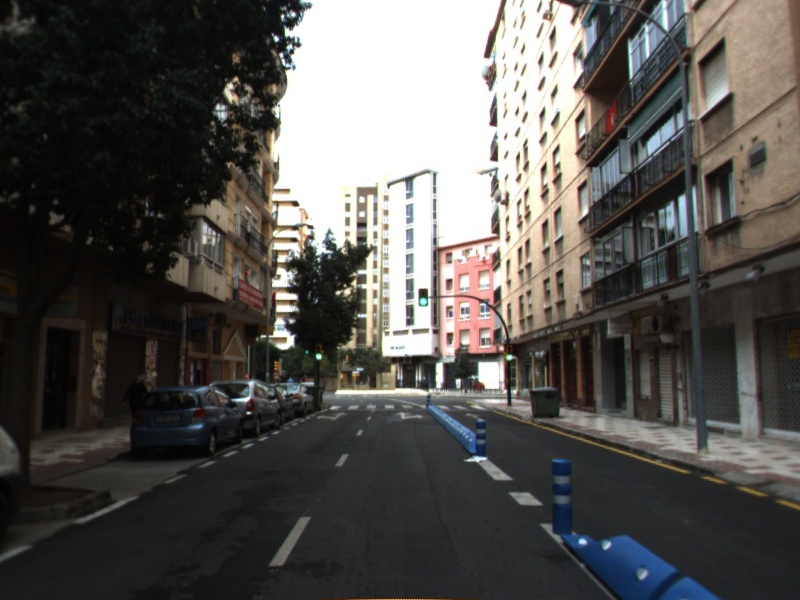STRAIGHT: (463, 411, 485, 422)
STRAIGHT_LEFT: (315, 410, 350, 422)
STRAIGHT_RIGHT: (393, 410, 426, 421)
